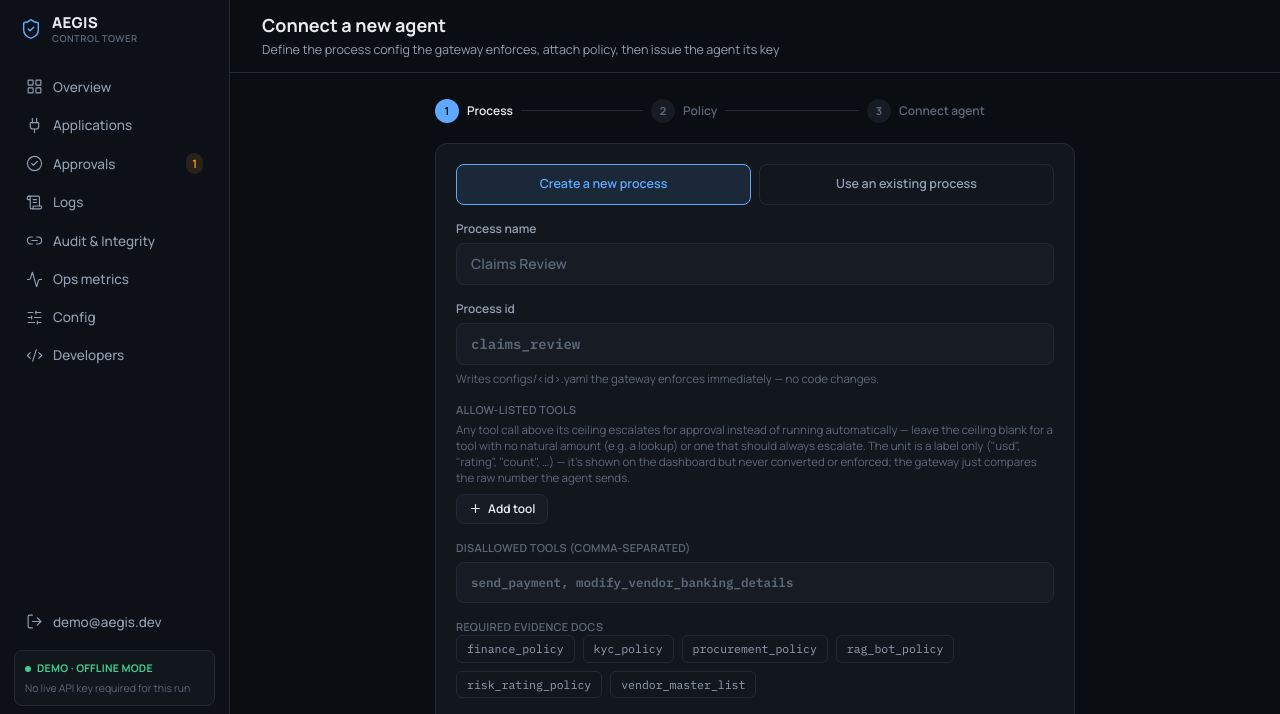
Test: ProcessWizardPage › steps back from policy to process config
The image size is (1280, 714).
In the field with placeholder "Claims Review": (755, 264) [456,242,1054,284], type "Back Nav Test"
(page scrolled)
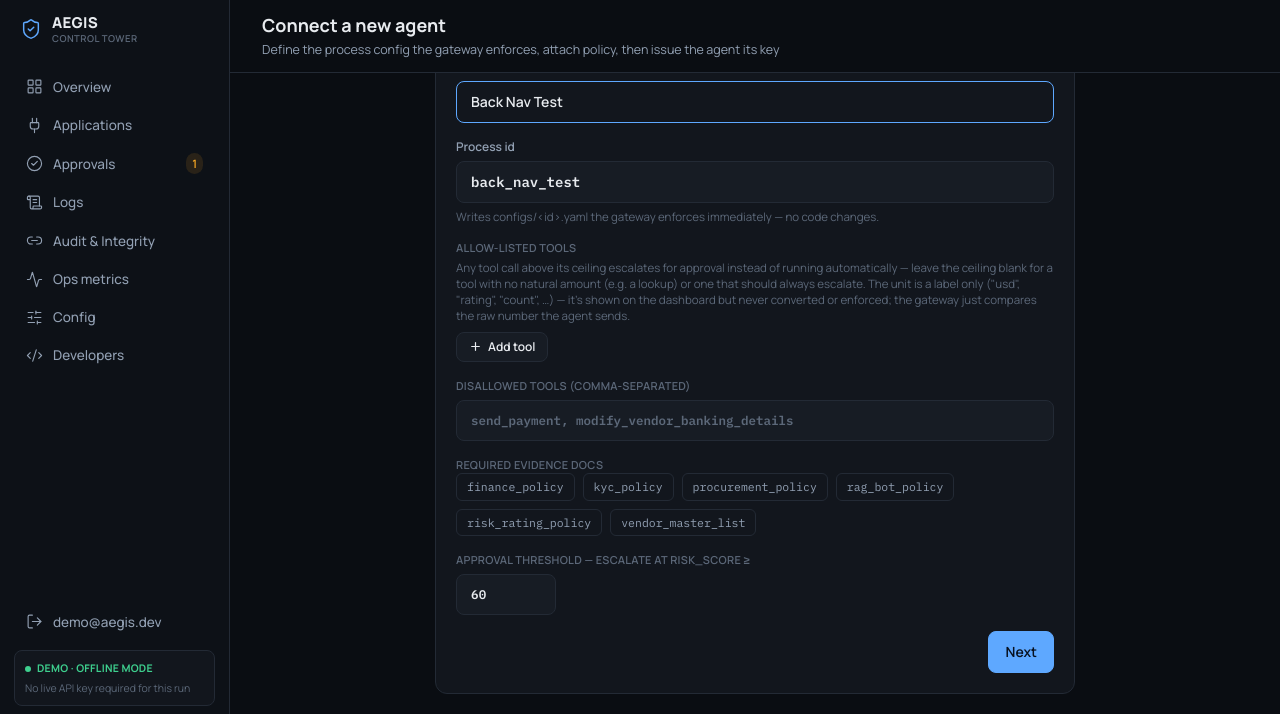
Click the button "Next": (1021, 652) [988,631,1054,673]
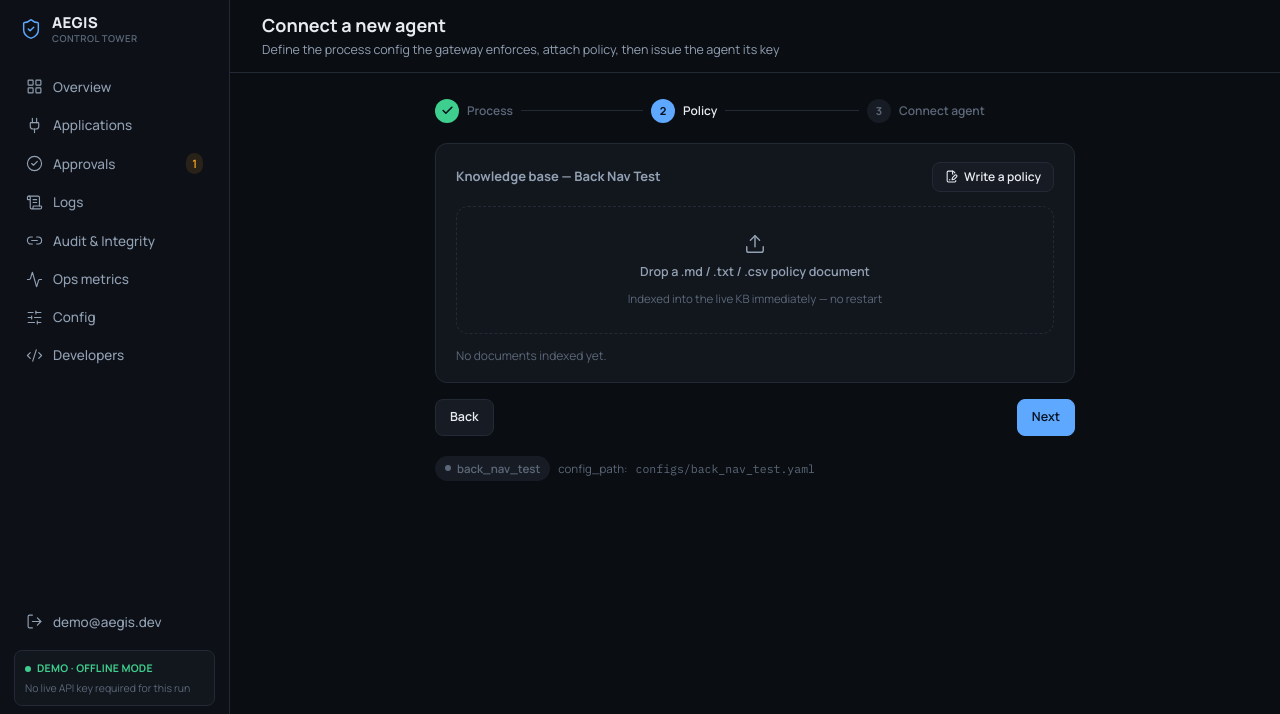
Expected: the text "Knowledge base — Back Nav Test" is shown, [456,167,661,186]
Click the button "Back": (464, 417) [435,399,494,436]
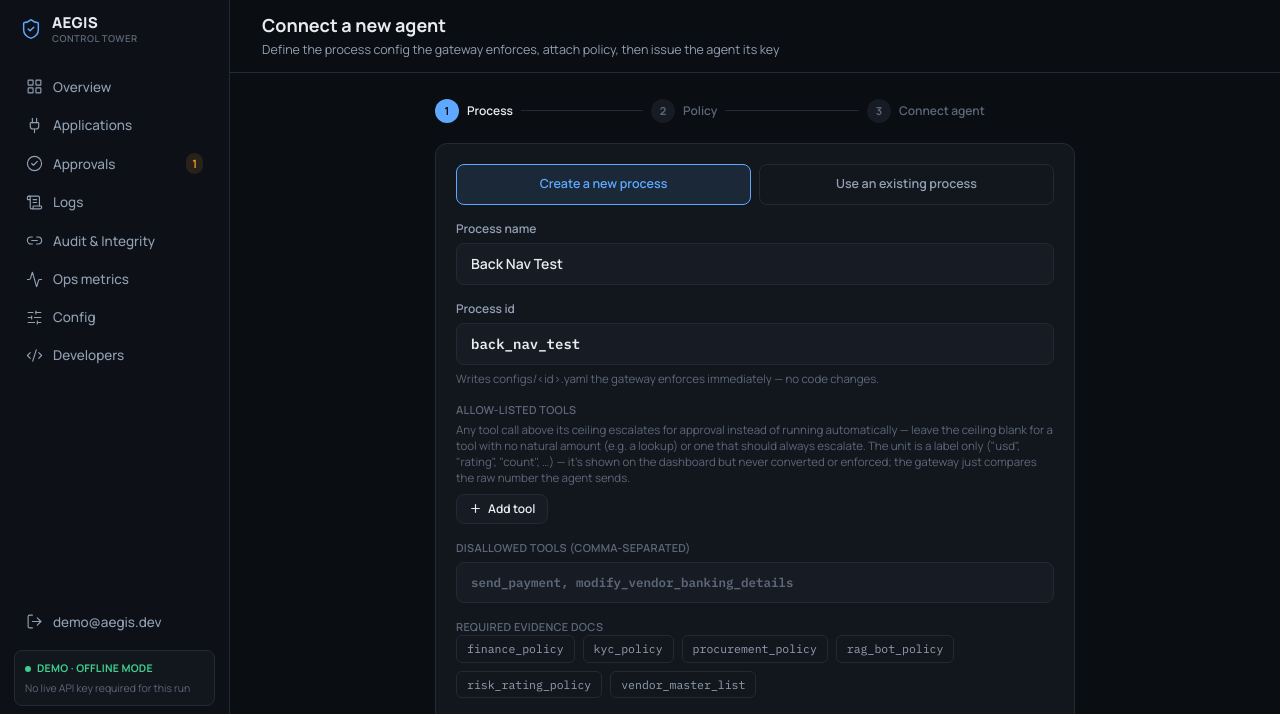
Expected: the field with placeholder "Claims Review" is shown, [456,242,1054,284]
